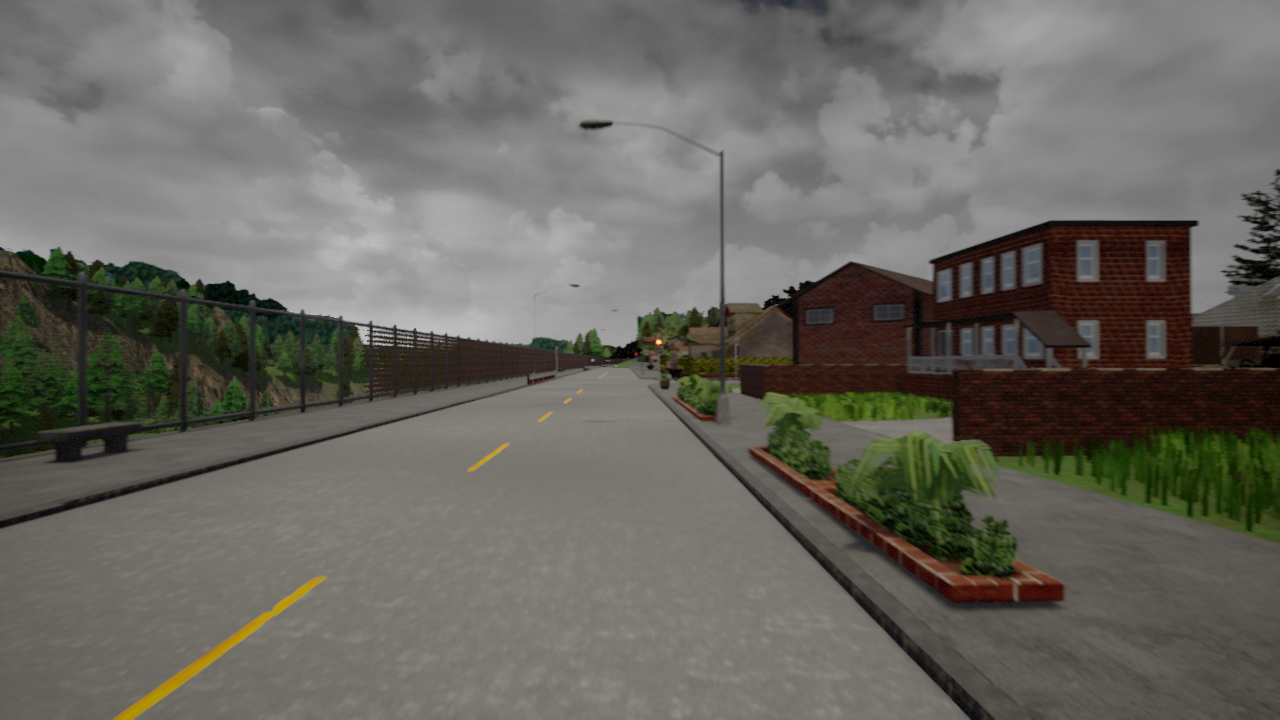red: (654, 338, 662, 355)
